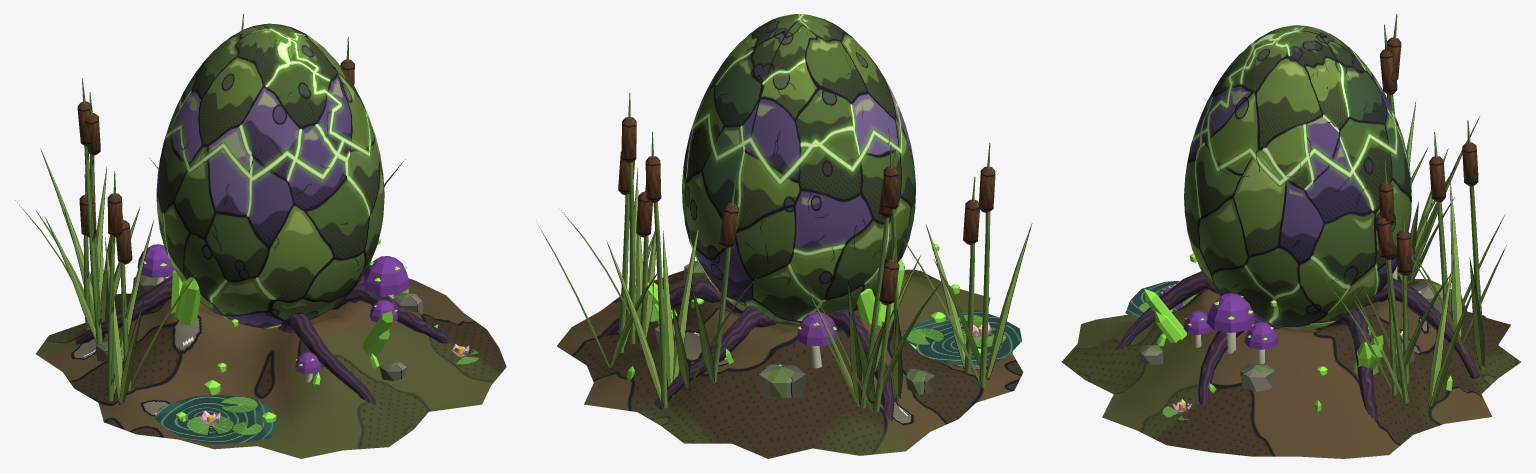
The model's file is jajko_bagno.glb.
3 views of the same model, side by side, from view 1: azimuth 30°, elevation 25°; view 2: azimuth 150°, elevation 25°; view 3: azimuth 270°, elevation 25° (orthographic). The views are drawn at different scales.
Visible parts, largest first — view 1: Egg, MudBed, Reeds, Roots, Water, MushroomCaps, ShellTopLeft, Crystals, Lilies, Bubbles; view 2: Egg, MudBed, Reeds, Roots, Water, ShellTopLeft, Crystals, Lilies, MushroomCaps; view 3: Egg, MudBed, Reeds, Roots, MushroomCaps, Crystals, ShellTopRight, Water, Lilies, ShellTopLeft.
Part boxes in pixels (x1,y1,x2,y2): Egg: (156,23,384,328); MudBed: (36,274,506,458); Reeds: (15,14,405,404); Roots: (75,275,450,405); Water: (154,395,277,444); MushroomCaps: (137,244,409,373); ShellTopLeft: (168,32,343,177); Crystals: (171,270,392,355); Lilies: (186,344,480,434); Bubbles: (166,238,380,422); Egg: (682,14,915,325); MudBed: (557,261,1023,458); Reeds: (538,93,1032,412); Roots: (601,279,894,420); Water: (903,309,1021,366); ShellTopLeft: (751,14,900,179); Crystals: (635,258,904,326); Lilies: (906,314,1006,347); MushroomCaps: (797,262,904,346); Egg: (1184,25,1412,329); MudBed: (1062,276,1520,458); Reeds: (1321,14,1506,408); Roots: (1115,271,1479,421); MushroomCaps: (1158,248,1413,349); Crystals: (1144,288,1383,375); ShellTopRight: (1250,32,1394,139); Water: (1125,280,1183,318); Lilies: (1138,281,1197,420); ShellTopLeft: (1203,25,1363,116).
Bounding box in the file's own units: 3.75 × 3 × 3.78.
Materials: 5 (2 with a texture image).
